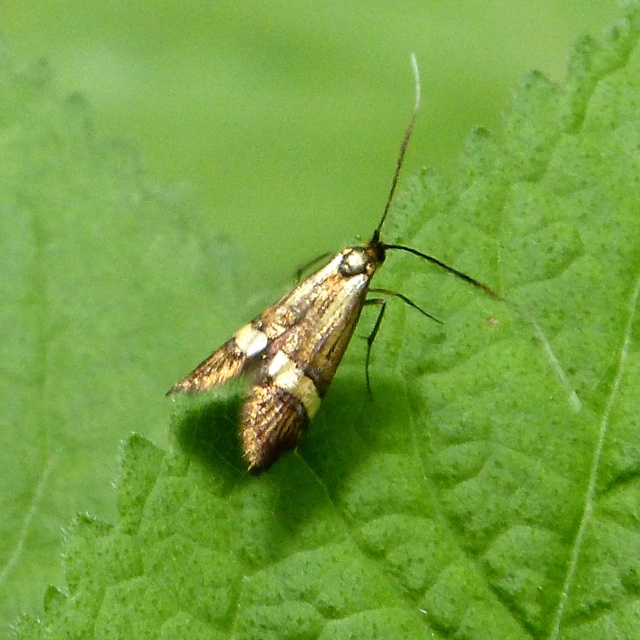Moths and butterflies: (163, 51, 528, 476)
